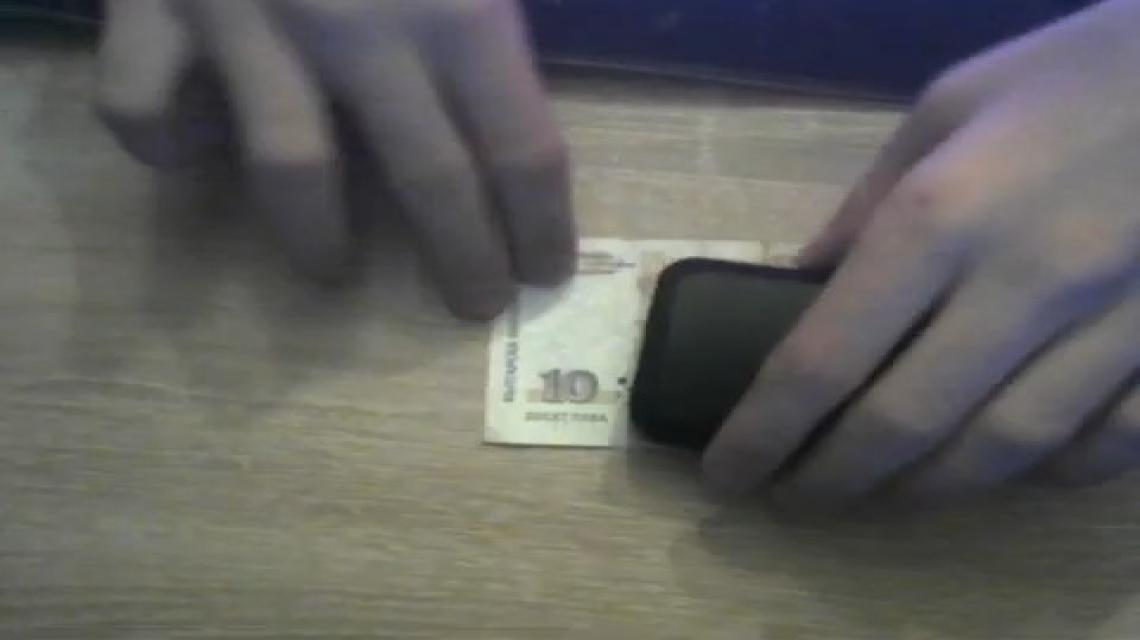10leva: (482, 244, 644, 450)
